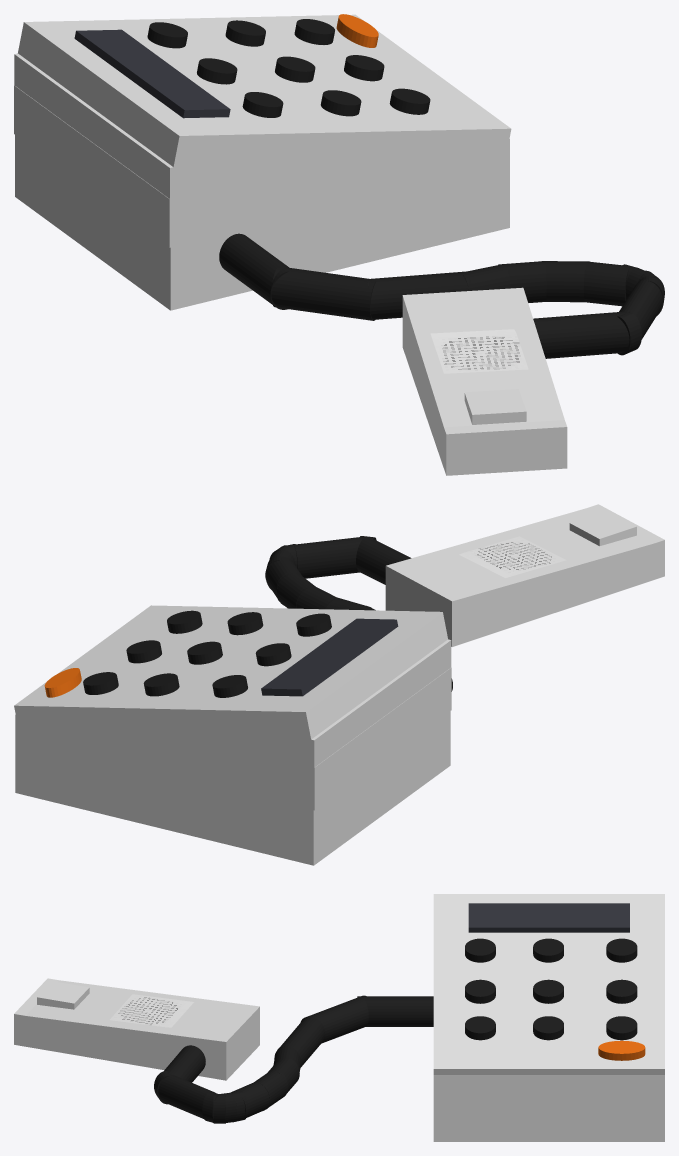
The model's file is HousePhone.fbx.
The picture shows the model from 3 angles, top to bottom: view 1: azimuth 30°, elevation 25°; view 2: azimuth 150°, elevation 25°; view 3: azimuth 270°, elevation 25°; orthographic projection. The views are drawn at different scales.
Parts seen in each view (by area): view 1: Cube.001, Cube, Cube.002, Cube.006, Cube.003, Cube.005, Cube.004, Cylinder.011, Cylinder.022, Plane, Cylinder.012, Cylinder.010 (+16 smaller); view 2: Cube.001, Cube, Cube.002, Cube.005, Cube.006, Cube.003, Cube.004, Plane, Cylinder.021, Cube.007, Cylinder.022, Cylinder.015 (+12 smaller); view 3: Cube.001, Cube, Cube.005, Cube.006, Cube.004, Cylinder.010, Plane, Cylinder.011, Cylinder.021, Cylinder.012, Cube.007, Cylinder.022 (+14 smaller).
Part boxes in pixels (<box>): Cube.001: <box>18,14,511,170</box>; Cube: <box>15,135,509,310</box>; Cube.002: <box>14,85,410,247</box>; Cube.006: <box>402,287,564,427</box>; Cube.003: <box>14,53,301,208</box>; Cube.005: <box>402,306,567,475</box>; Cube.004: <box>74,29,230,118</box>; Cylinder.011: <box>271,267,376,320</box>; Cylinder.022: <box>533,311,631,358</box>; Plane: <box>430,329,528,373</box>; Cylinder.012: <box>367,271,471,320</box>; Cylinder.010: <box>219,233,289,309</box>; Cube.001: <box>14,605,447,742</box>; Cube: <box>15,711,450,865</box>; Cube.002: <box>102,667,451,810</box>; Cube.005: <box>385,504,664,646</box>; Cube.006: <box>385,508,657,610</box>; Cube.003: <box>198,639,451,775</box>; Cube.004: <box>261,618,398,696</box>; Plane: <box>459,536,566,577</box>; Cylinder.021: <box>294,537,366,578</box>; Cube.007: <box>569,510,636,546</box>; Cylinder.022: <box>356,537,411,584</box>; Cylinder.015: <box>276,571,315,608</box>; Cube.001: <box>433,894,664,1075</box>; Cube: <box>433,1075,664,1141</box>; Cube.005: <box>14,978,259,1080</box>; Cube.006: <box>26,980,259,1049</box>; Cube.004: <box>468,903,629,932</box>; Cylinder.010: <box>357,996,433,1026</box>; Plane: <box>110,994,193,1027</box>; Cylinder.011: <box>300,995,368,1043</box>; Cylinder.021: <box>158,1073,215,1118</box>; Cylinder.012: <box>274,1015,325,1067</box>; Cube.007: <box>37,981,89,1009</box>; Cylinder.022: <box>154,1045,205,1093</box>.
Size of the model in its own units: 47.81 by 22.87 by 104.
Materials: 33 (1 with a texture image).
